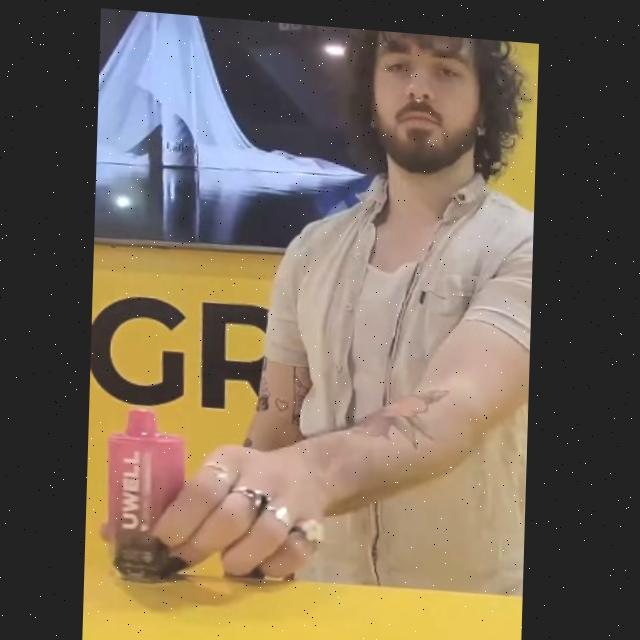vape: (108, 404, 189, 579)
